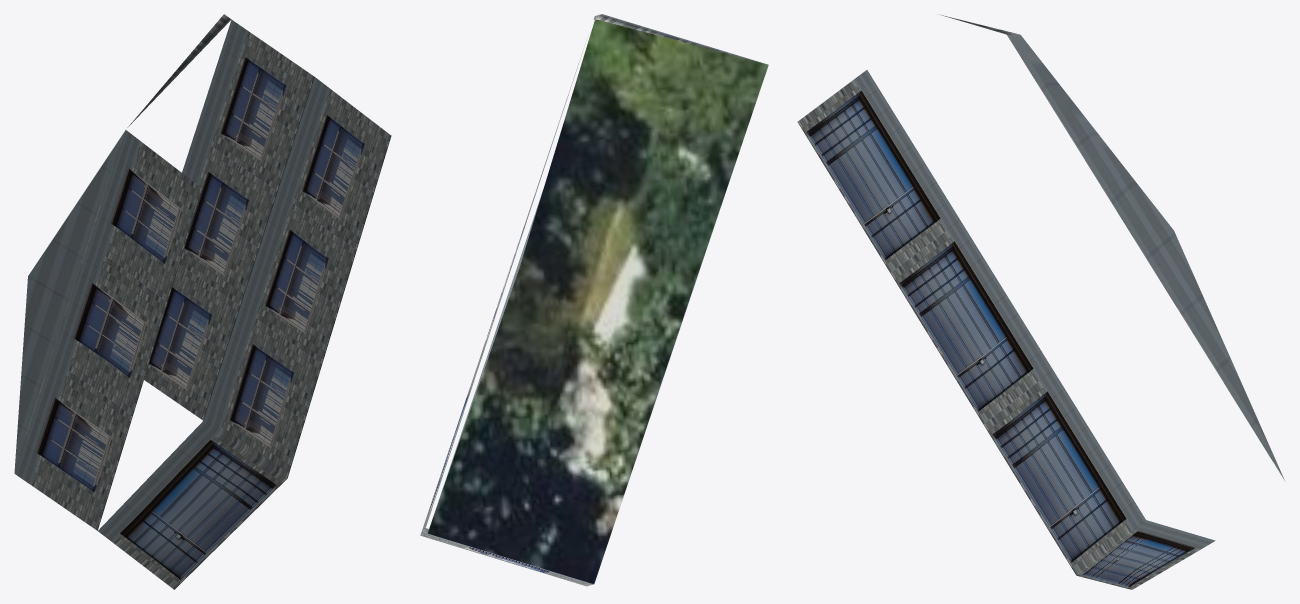
File: tile_LOD8_r6_c7.glb
3 renders of one model, left to right at view 1: azimuth 30°, elevation 25°; view 2: azimuth 150°, elevation 25°; view 3: azimuth 270°, elevation 25°, orthographic. The views are drawn at different scales.
Bounding box in the file's own units: 10.25 × 21.75 × 17.5.
5 materials, 5 textured.
